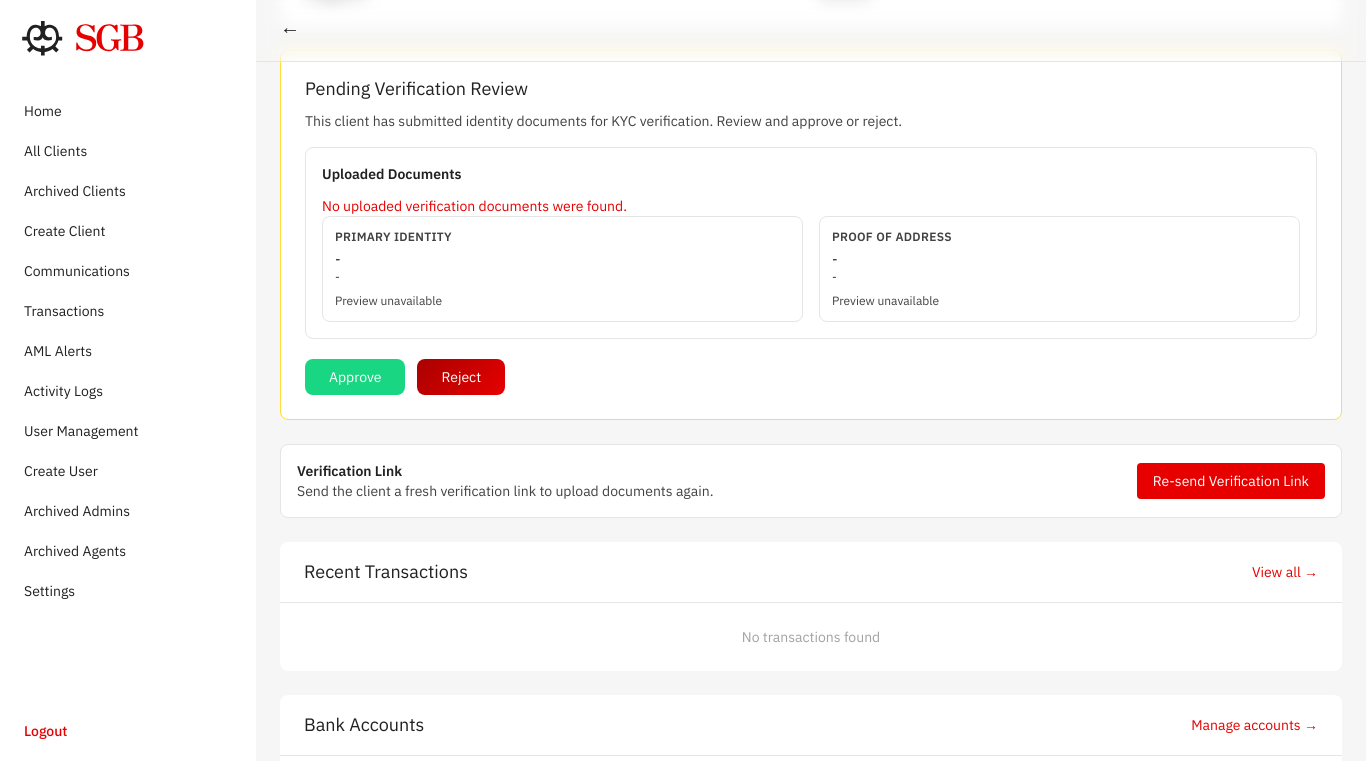
Test: ClientDetailPage (root admin role) › shows review error on 403 during review
The width and height of the screenshot is (1366, 761).
(page scrolled)
Step 1. Click the button "Approve" → (355, 377), box x1=305 y1=359 x2=406 y2=395
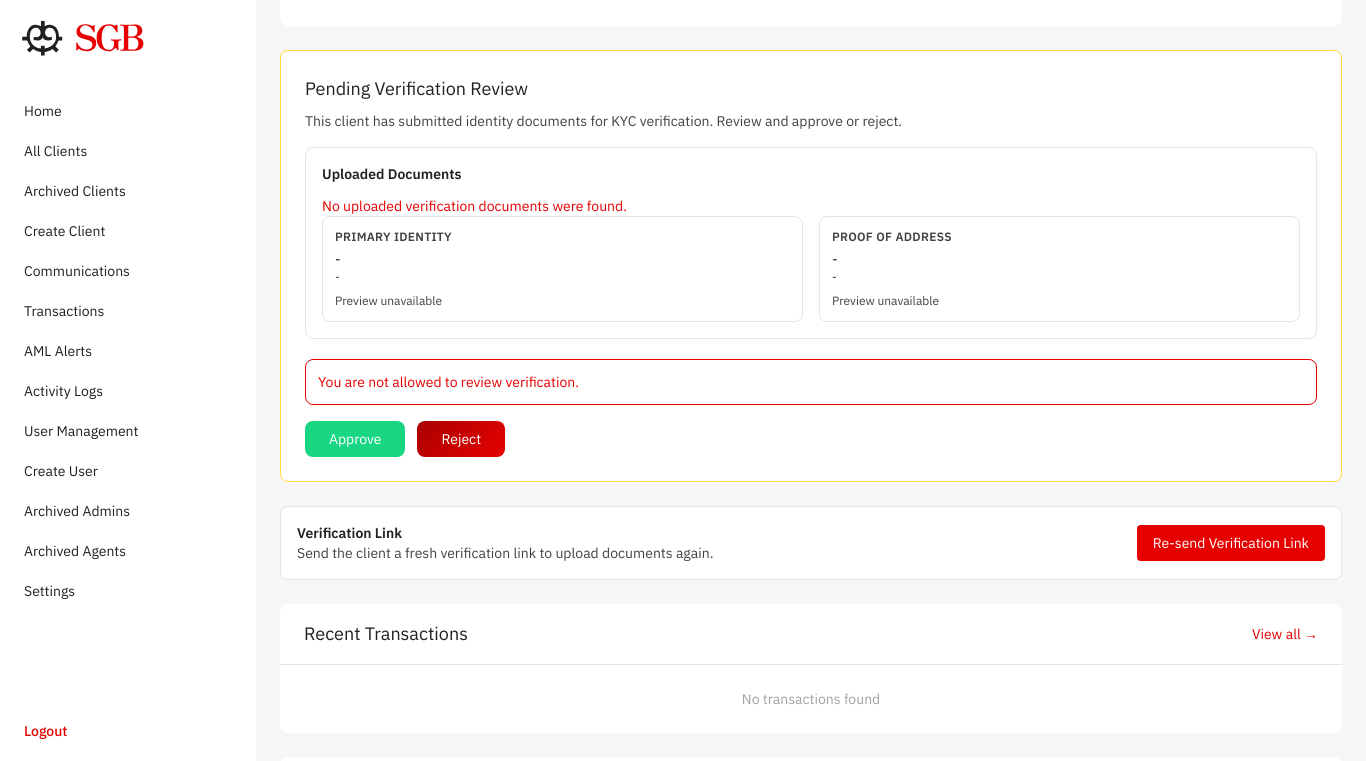
Now the text "You are not allowed to review verification." is shown, box x1=318 y1=373 x2=579 y2=391
